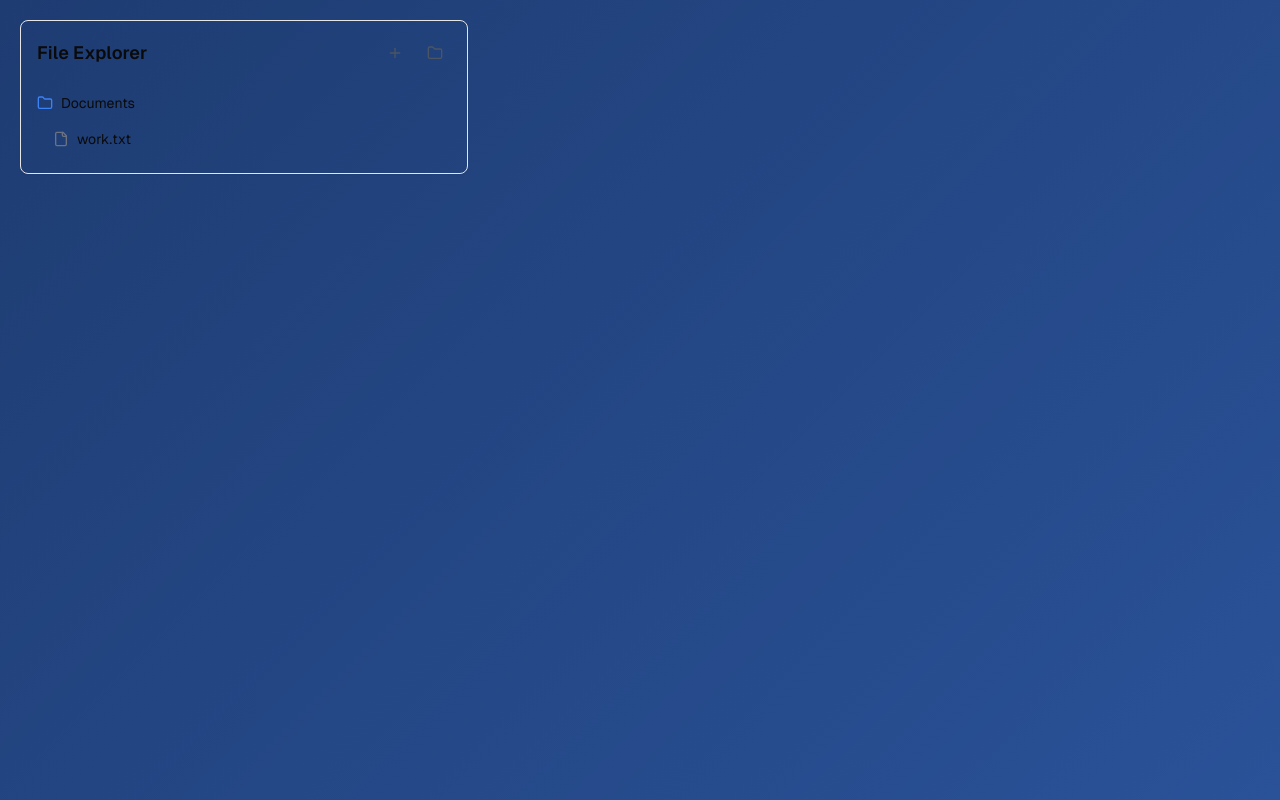
FileExplorer › creates a new folder at root level
Click the button with test id "addfolder" at (435, 53), box [419, 37, 451, 69]
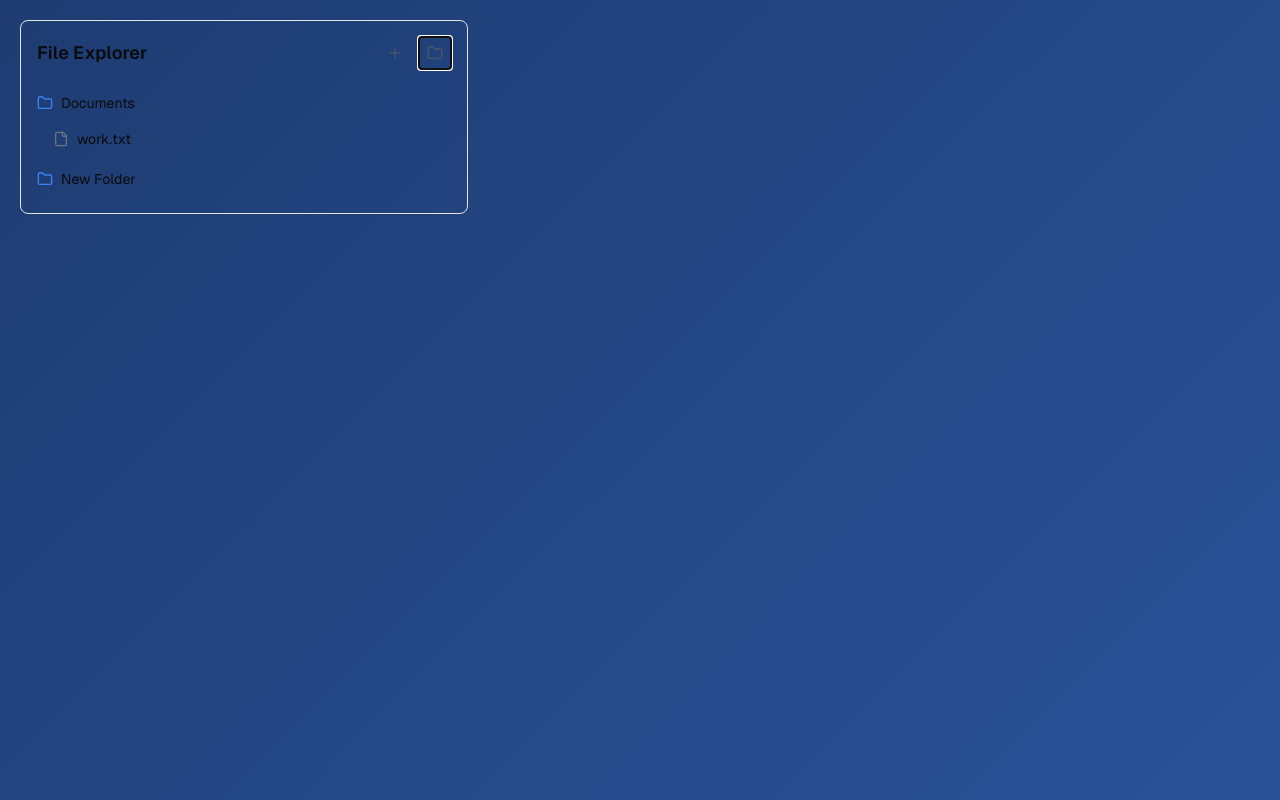
Now the text "New Folder" is shown, box [61, 169, 136, 189]
